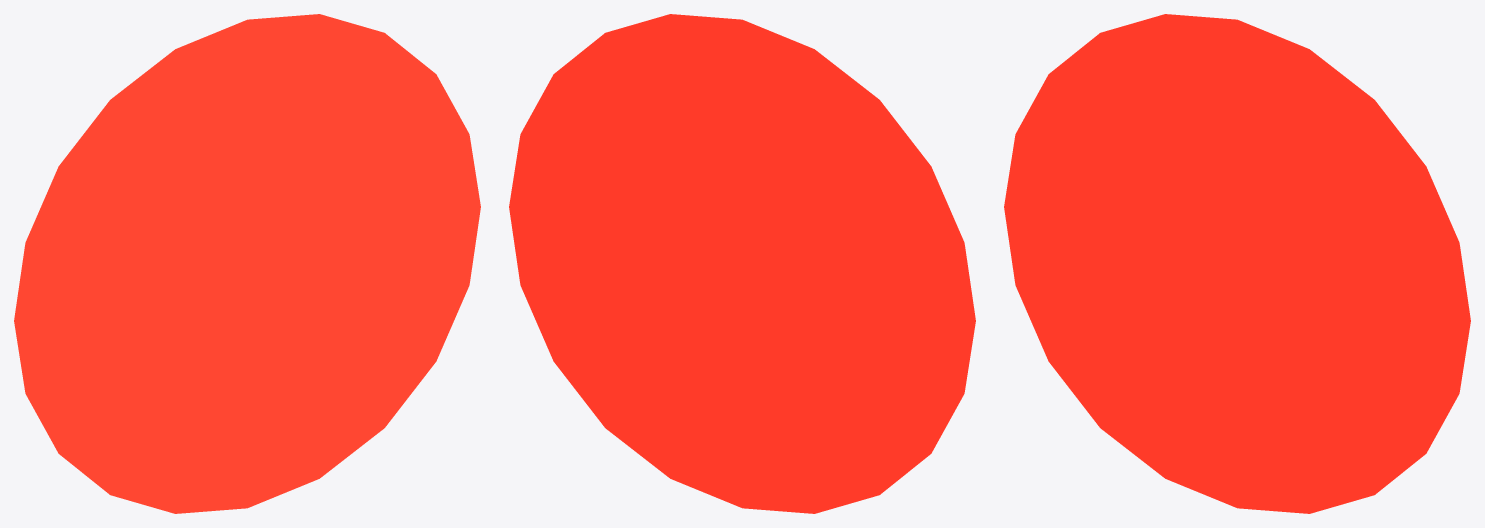
File: lx_msl_lit_red.glb
The picture shows the model from 3 angles, left to right: view 1: azimuth 30°, elevation 25°; view 2: azimuth 150°, elevation 25°; view 3: azimuth 330°, elevation 25°; orthographic projection.
Parts seen in each view (by area): view 1: SM_lx_msl_lit_red; view 2: SM_lx_msl_lit_red; view 3: SM_lx_msl_lit_red.
Part boxes in pixels (left/top/right/bottom): SM_lx_msl_lit_red: left=14, top=14, right=480, bottom=513; SM_lx_msl_lit_red: left=509, top=14, right=975, bottom=513; SM_lx_msl_lit_red: left=1004, top=14, right=1470, bottom=513.
Bounding box in the file's own units: 0.132 × 0.132 × 0.
